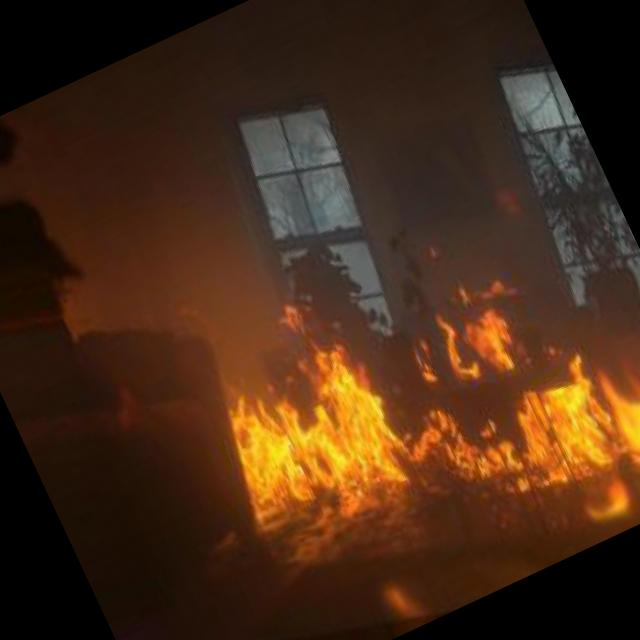fire: (375, 203, 640, 587), (205, 309, 431, 551)
